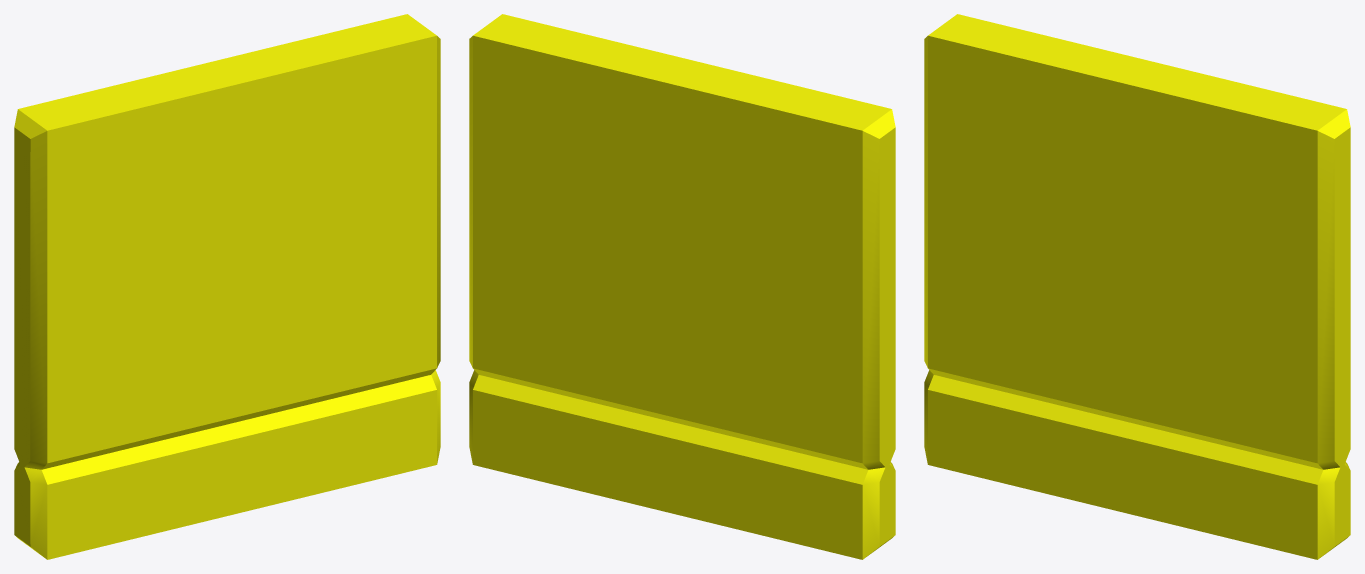
File: kaykit-prototype-wall.glb
3 renders of one model, left to right at view 1: azimuth 30°, elevation 25°; view 2: azimuth 150°, elevation 25°; view 3: azimuth 330°, elevation 25°, orthographic.
Parts seen in each view (by area): view 1: Wall; view 2: Wall; view 3: Wall.
Part boxes in pixels (x1,y1,x2,y2): Wall: (14, 14, 440, 559); Wall: (469, 14, 895, 559); Wall: (924, 14, 1350, 559).
Size of the model in its own units: 4 by 4 by 0.5298.
